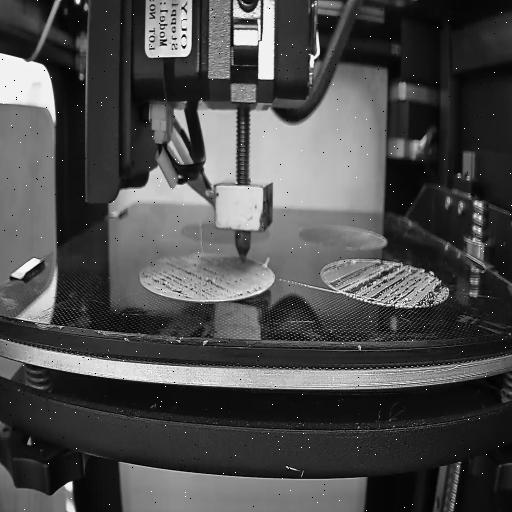under_extrusion: (324, 256, 446, 309), (139, 268, 236, 296), (239, 272, 271, 298)
